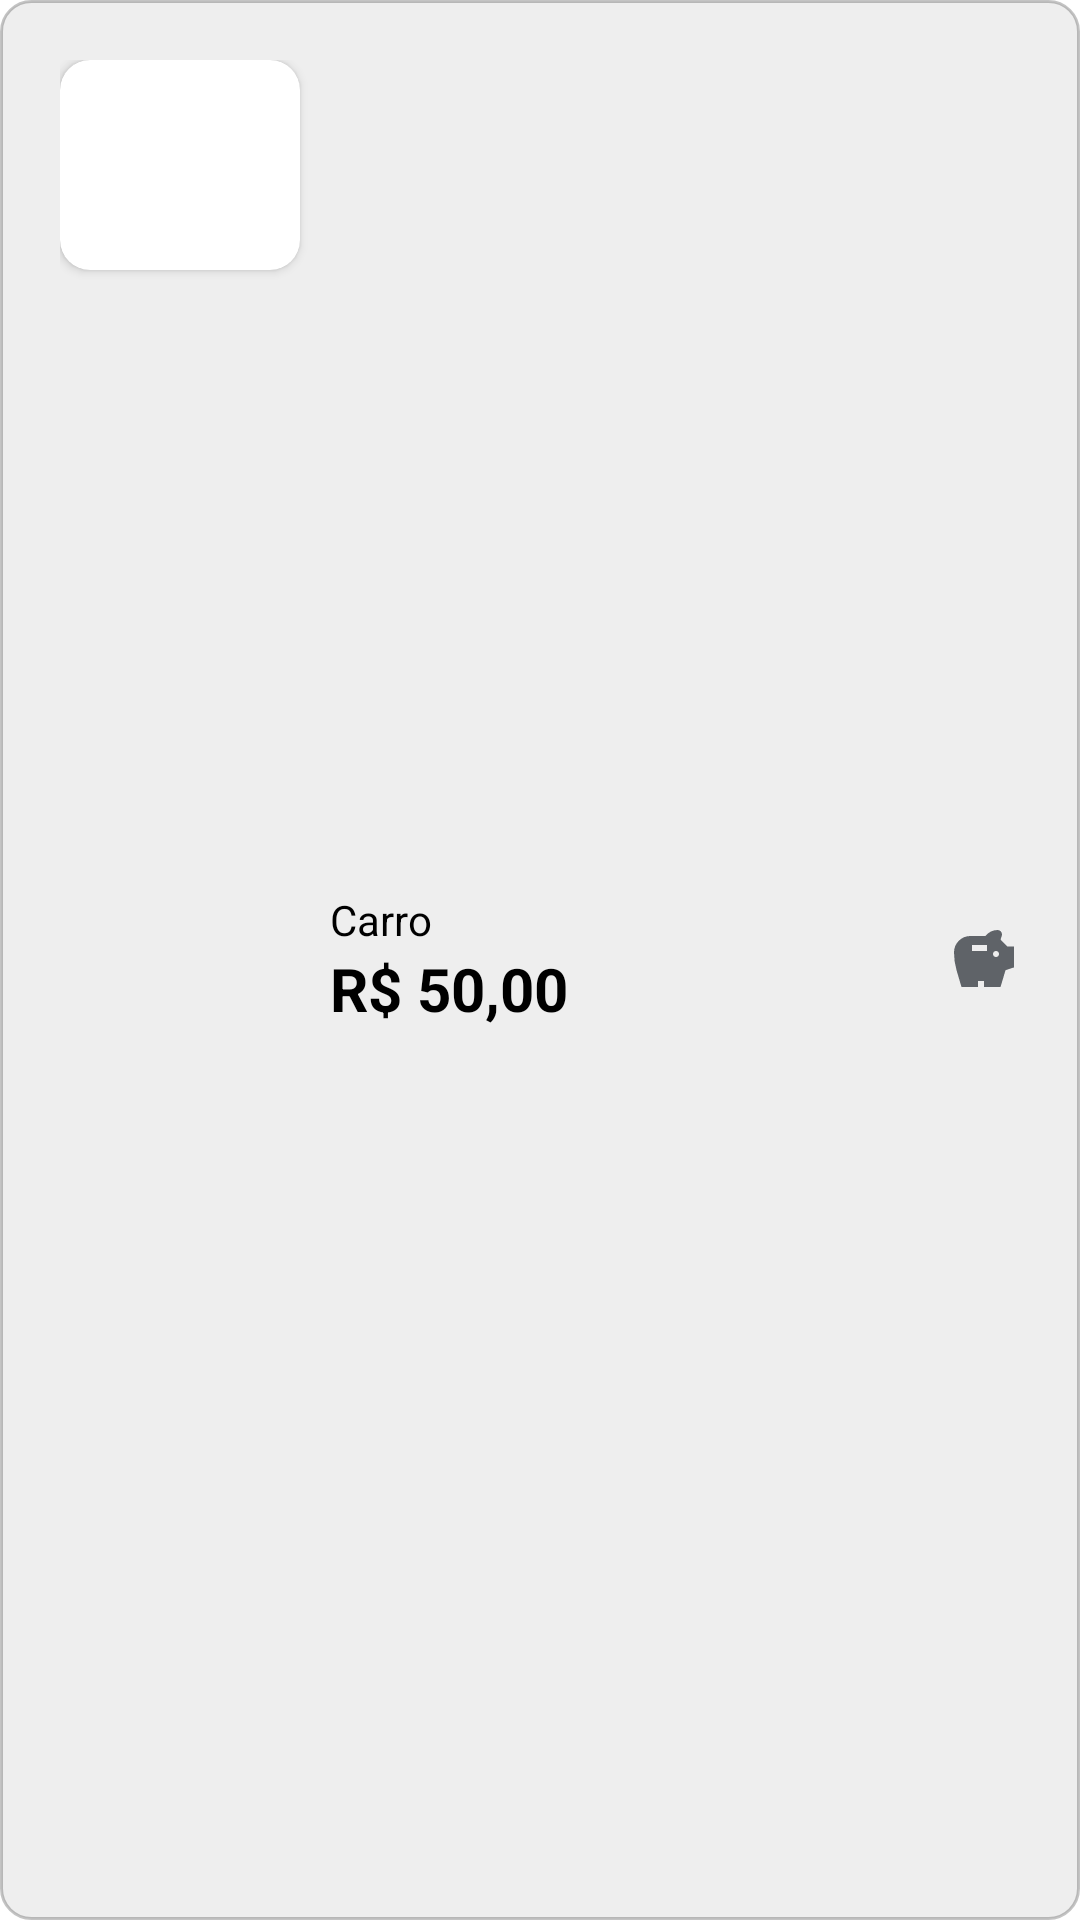

Named icons in this screenshot (1080x1920) and their centers, [x,y]:
savings: [984,958]
